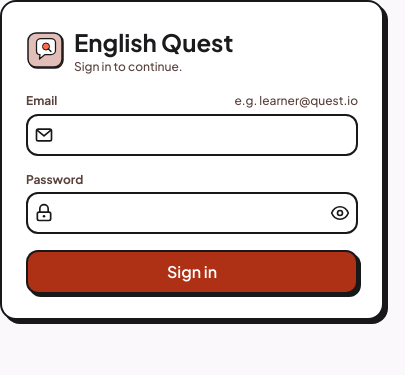
Test: LoginForm › shows_lockout_with_countdown
The image size is (405, 375).
Type "user@example.com" into the field labelled "Email" at (192, 135), box [26, 114, 358, 156]
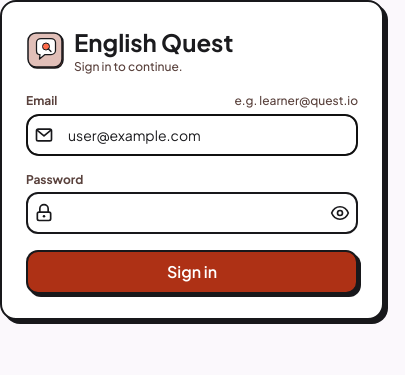
Type "wrong password" into the password field labelled "Password" at (192, 213), box [26, 192, 358, 234]
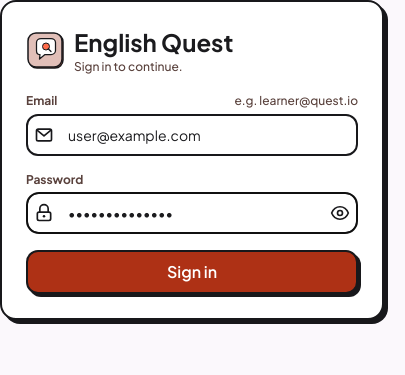
Click the button "Sign in" at (192, 272), box [26, 250, 358, 294]
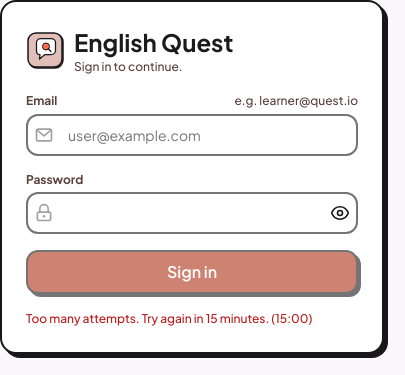
Expected: the message shows "Too many attempts.", [26, 311, 269, 326]
Expected: the message reads "Too many attempts. Try again in 15 minutes. (15:00)", [269, 311, 312, 326]
Expected: the button "Sign in" is disabled, [26, 250, 358, 294]
